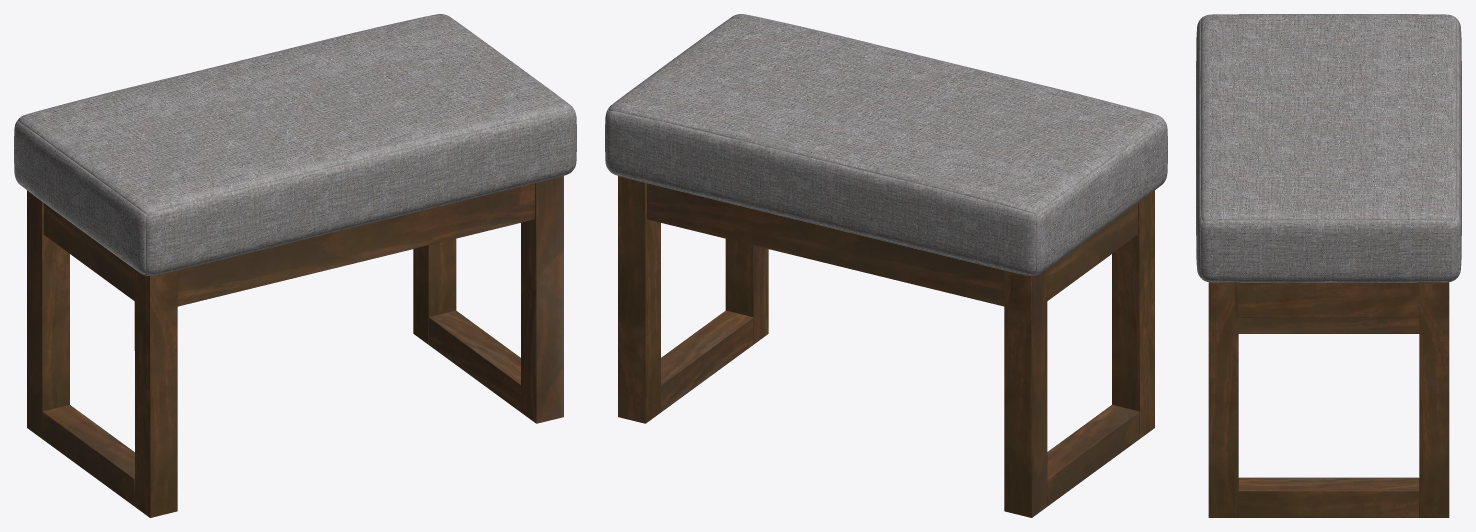
3 renders of one model, left to right at view 1: azimuth 30°, elevation 25°; view 2: azimuth 150°, elevation 25°; view 3: azimuth 270°, elevation 25°, orthographic. The views are drawn at different scales.
Visible parts, largest first — view 1: B07D4FS7GY; view 2: B07D4FS7GY; view 3: B07D4FS7GY.
Boxes of the visible parts, box(x1,y1,x2,y2) form: B07D4FS7GY: box(14, 14, 576, 517); B07D4FS7GY: box(605, 14, 1167, 517); B07D4FS7GY: box(1196, 14, 1461, 517).
Size of the model in its own units: 0.6807 by 0.4674 by 0.3658.
1 material, 1 textured.
